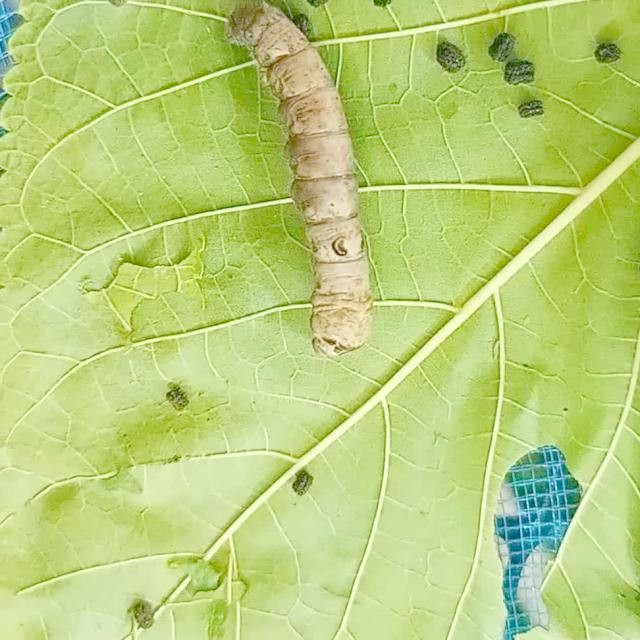Grasserie: (219, 0, 400, 366)
